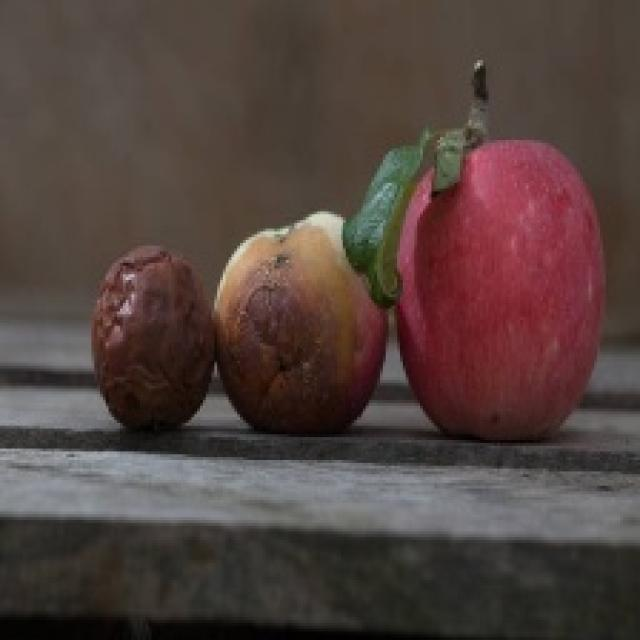100-_ripeness: (398, 140, 606, 440)
rotten_apple: (220, 213, 385, 435), (99, 250, 211, 430)
